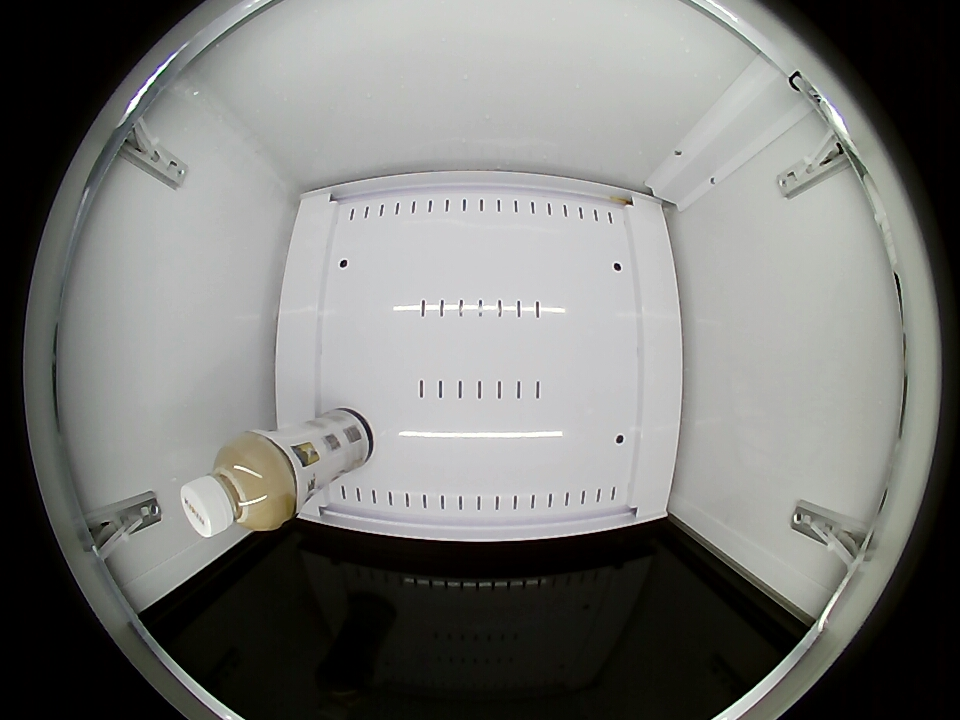wuhounaicha: (181, 433, 295, 538)
